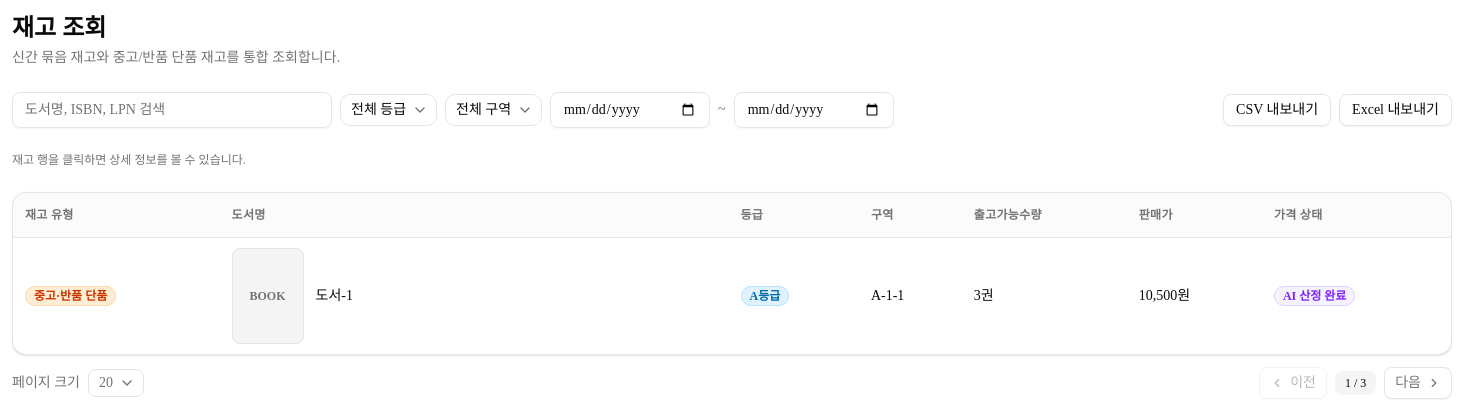
InventoryGridView › total_pages가 현재 페이지보다 작아지면 범위 안으로 보정한다
Expected: the text "도서-1" is shown, [316, 286, 353, 306]
Click the button "다음" at (1418, 382), box [1384, 366, 1452, 398]
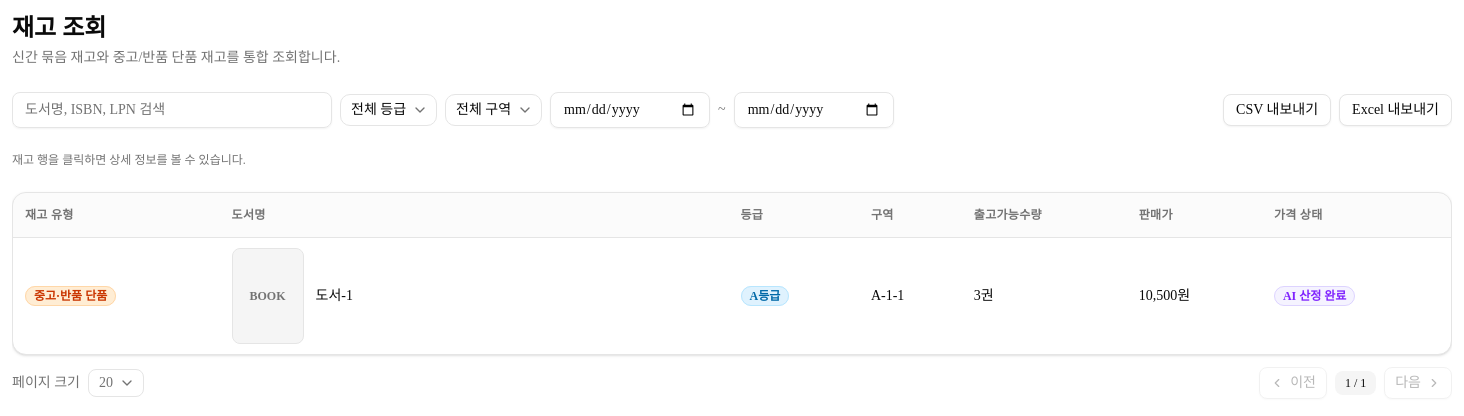
Expected: the text "1 / 1" is shown, [1335, 370, 1376, 394]
